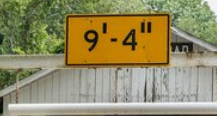4: (120, 26, 139, 54)
9: (79, 26, 101, 55)
overheadsign: (63, 13, 171, 67)
